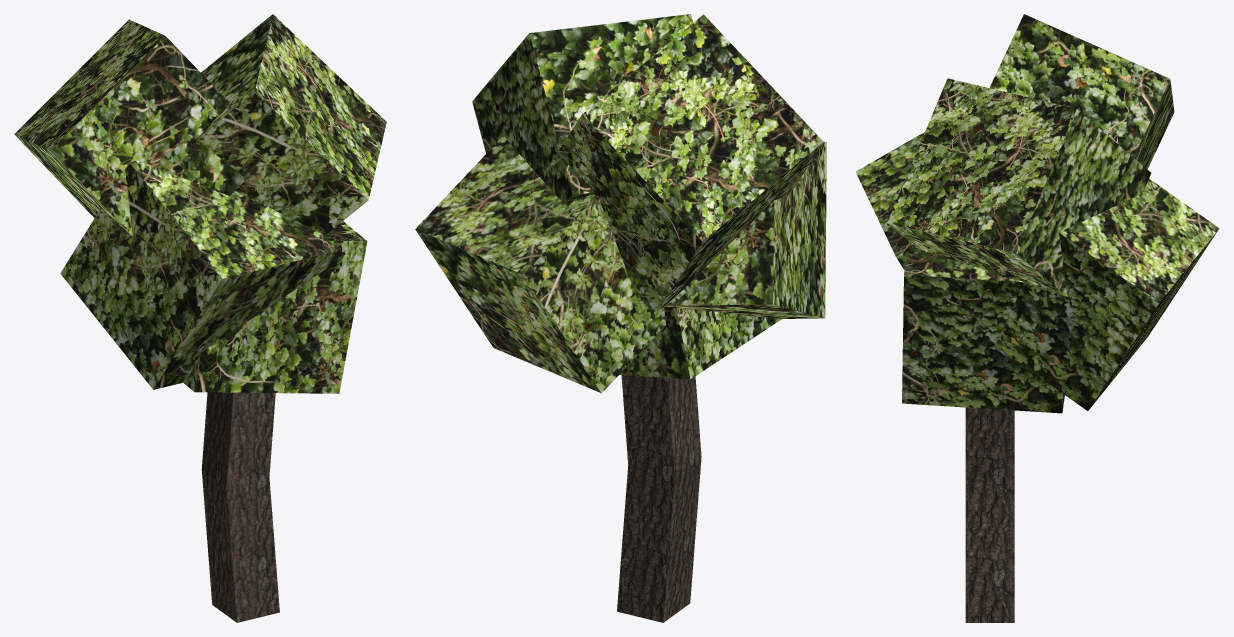
File: Arbol_01.fbx
3 views of the same model, side by side, from view 1: azimuth 30°, elevation 25°; view 2: azimuth 150°, elevation 25°; view 3: azimuth 270°, elevation 25° (orthographic). The views are drawn at different scales.
Parts seen in each view (by area): view 1: Arbol_01; view 2: Arbol_01; view 3: Arbol_01.
Part boxes in pixels (box(x1,y1,x2,y2)): Arbol_01: box(14, 14, 386, 622); Arbol_01: box(415, 14, 826, 622); Arbol_01: box(856, 14, 1219, 622).
Size of the model in its own units: 115 by 191 by 111.
